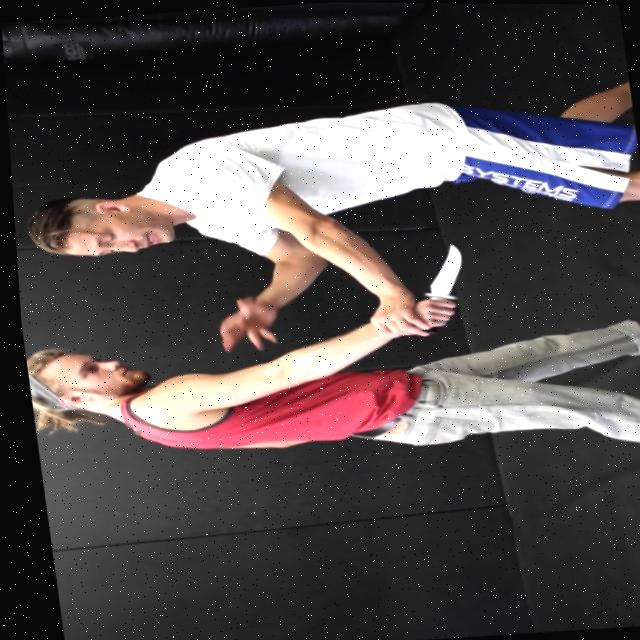knife: (407, 242, 476, 299)
